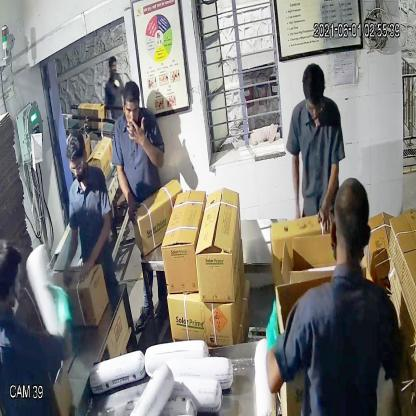goggles: (66, 154, 87, 179)
